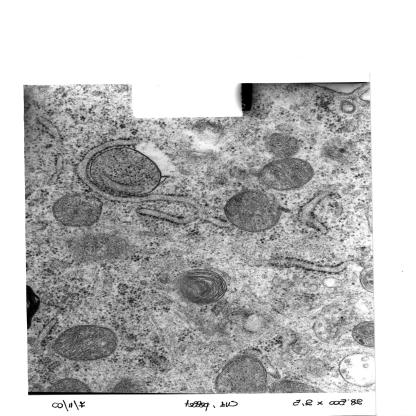mitochondria: (50, 323, 118, 362), (223, 190, 283, 233), (256, 156, 318, 191), (50, 192, 105, 228), (212, 358, 268, 393), (261, 132, 304, 157)
